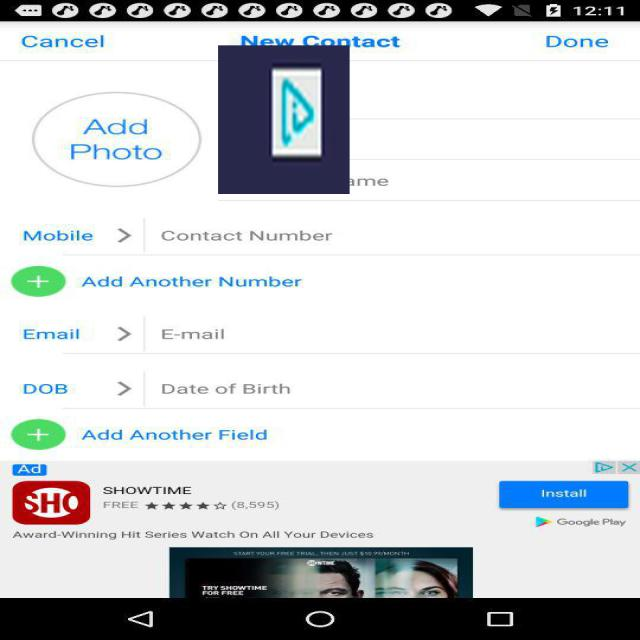sneaking: (218, 45, 350, 194)
